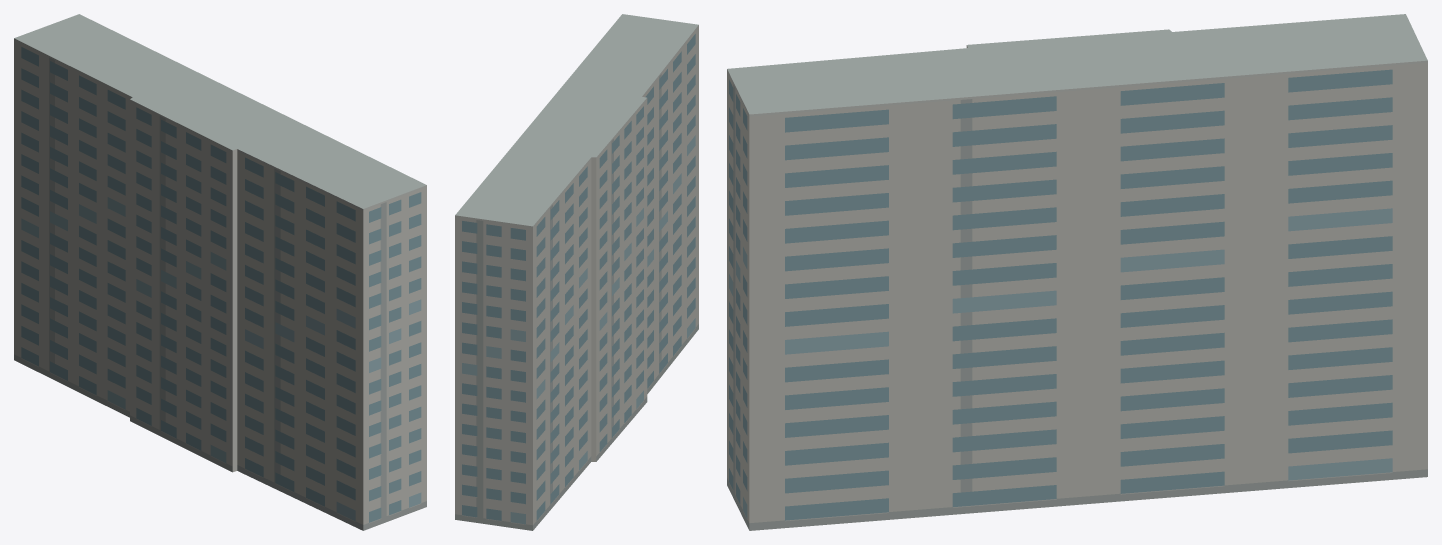
Rendered from survey-upis-32843689.glb.
3 views of the same model, side by side, from view 1: azimuth 30°, elevation 25°; view 2: azimuth 150°, elevation 25°; view 3: azimuth 270°, elevation 25° (orthographic). The views are drawn at different scales.
Visible parts, largest first — view 1: survey-upis-32843689.tmp; view 2: survey-upis-32843689.tmp; view 3: survey-upis-32843689.tmp.
Boxes of the visible parts, x1,y1,x2,y2 form: survey-upis-32843689.tmp: [14, 14, 426, 530]; survey-upis-32843689.tmp: [455, 14, 698, 530]; survey-upis-32843689.tmp: [727, 14, 1427, 530].
Bounding box in the file's own units: 23.69 × 45.75 × 69.79.
